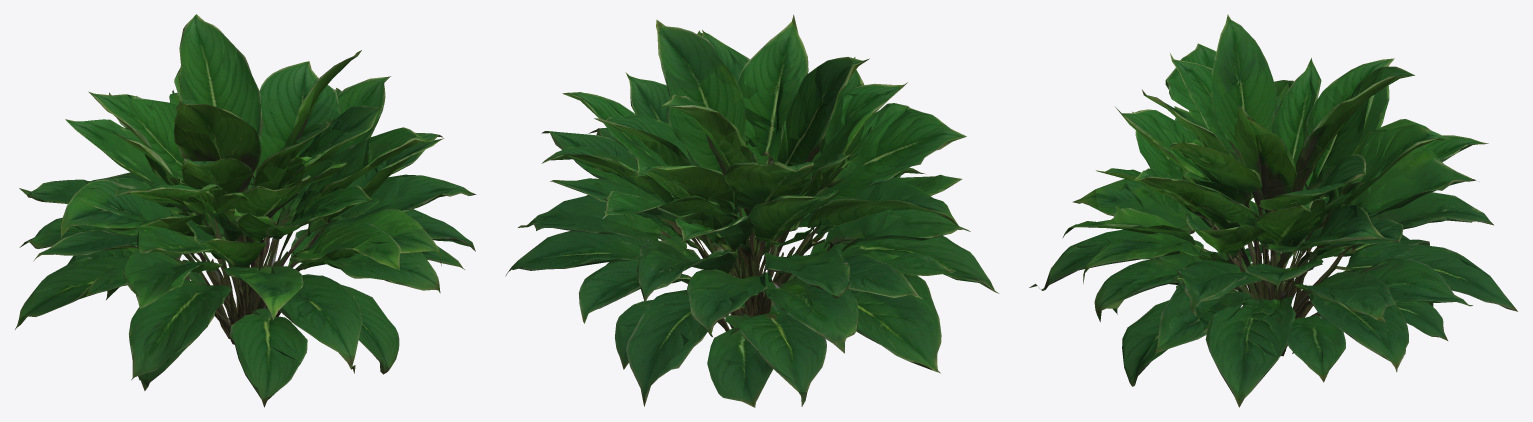
Rendered from Broadleaf.glb.
3 renders of one model, left to right at view 1: azimuth 30°, elevation 25°; view 2: azimuth 150°, elevation 25°; view 3: azimuth 270°, elevation 25°, orthographic. The views are drawn at different scales.
Size of the model in its own units: 1.9 by 1.21 by 1.85.
Materials: 1 (1 with a texture image).
